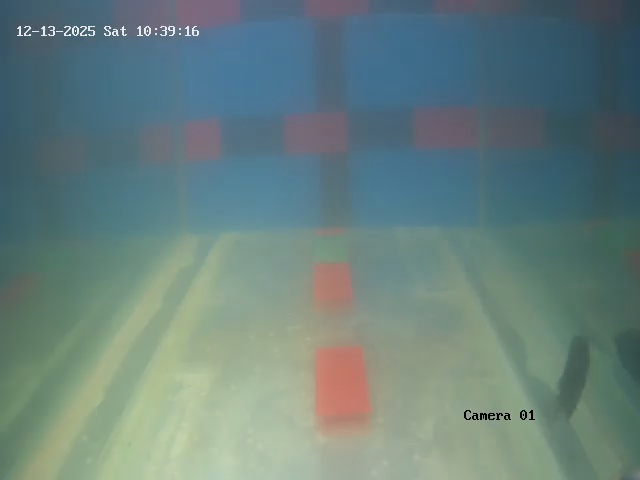fish: (544, 330, 604, 420)
